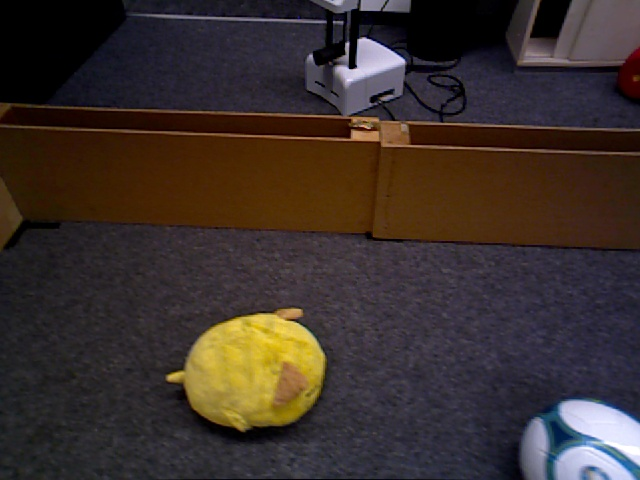grasp: (183, 312, 326, 428)
kick: (521, 398, 640, 476)
